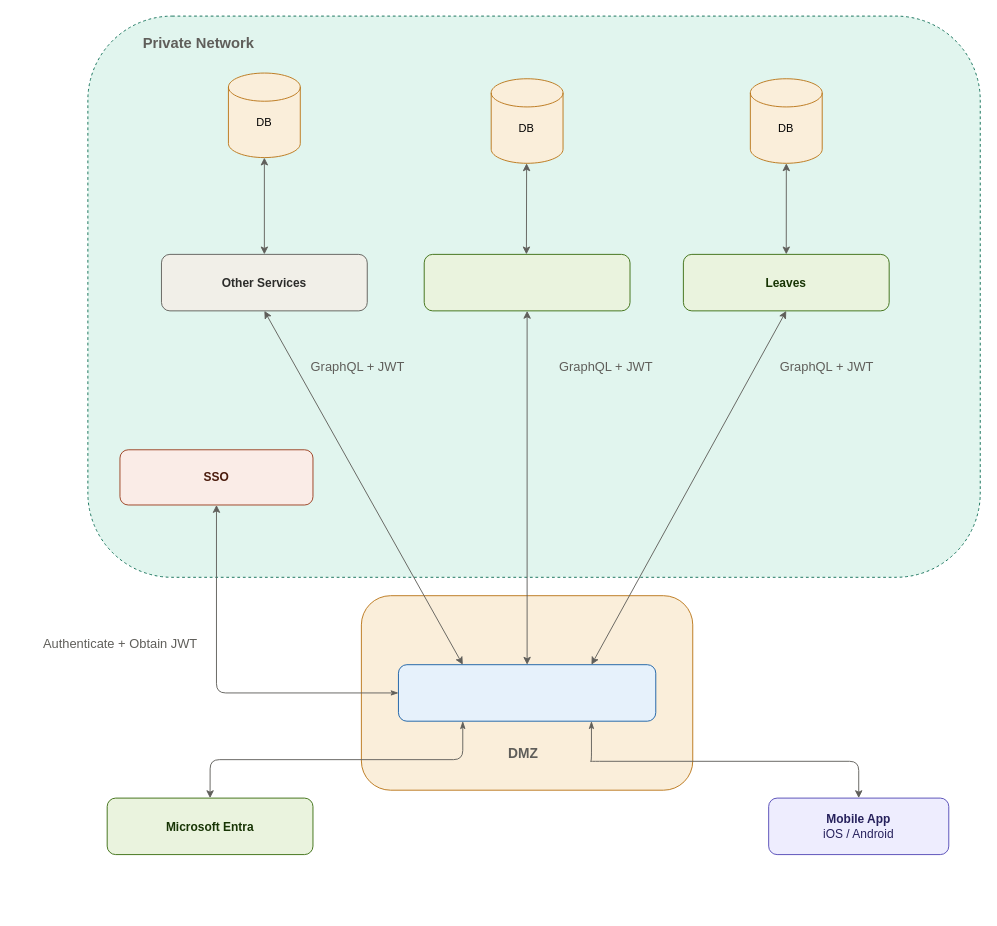
This 997x926 diagram has some shape labels left out. The centre of each missing label's shape, as x and y in pixels:
API Layer: [527,692]
Clockit: [526,282]
